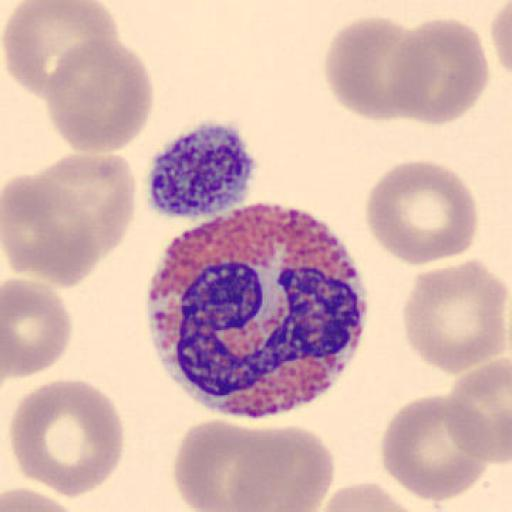Platelet: (144, 119, 260, 220)
RBC: (1, 154, 126, 289), (170, 420, 336, 512), (9, 377, 125, 499), (42, 36, 154, 156), (402, 257, 510, 375), (364, 156, 478, 266), (2, 0, 122, 100), (380, 394, 489, 502), (385, 15, 490, 127), (2, 169, 100, 288), (34, 152, 138, 258), (323, 15, 421, 122), (220, 423, 336, 512), (172, 418, 272, 511), (2, 276, 72, 380), (445, 358, 512, 464), (309, 479, 418, 512), (1, 481, 86, 512), (490, 0, 512, 79)
WBC: (144, 206, 370, 420)
